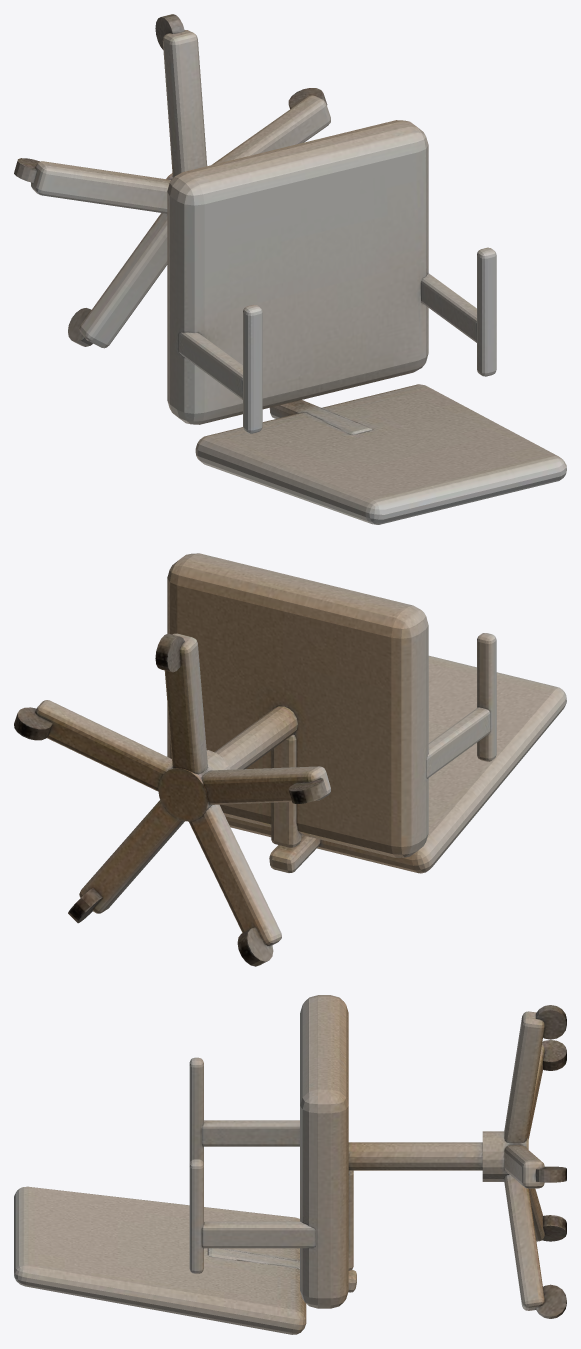
3 renders of one model, top to bottom at view 1: azimuth 30°, elevation 25°; view 2: azimuth 150°, elevation 25°; view 3: azimuth 270°, elevation 25°, orthographic. The views are drawn at different scales.
Parts seen in each view (by area): view 1: E2_final_2.001; view 2: E2_final_2.001; view 3: E2_final_2.001.
Part boxes in pixels (x1,y1,x2,y2): E2_final_2.001: [14, 14, 566, 524]; E2_final_2.001: [14, 553, 566, 966]; E2_final_2.001: [14, 995, 566, 1334].
Bounding box in the file's own units: 0.6199 × 0.6085 × 1.08.
Materials: 1 (1 with a texture image).
